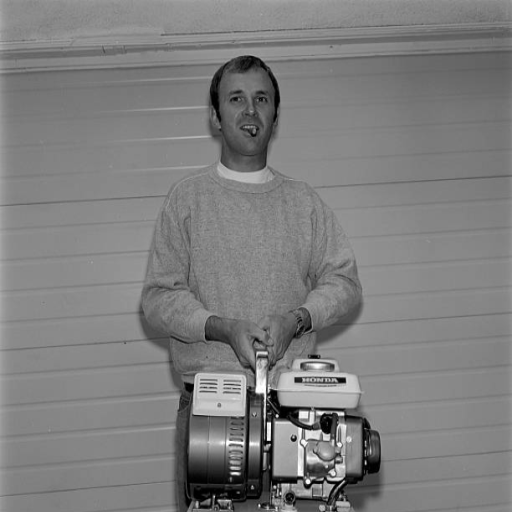portable_generator: (186, 351, 382, 512)
